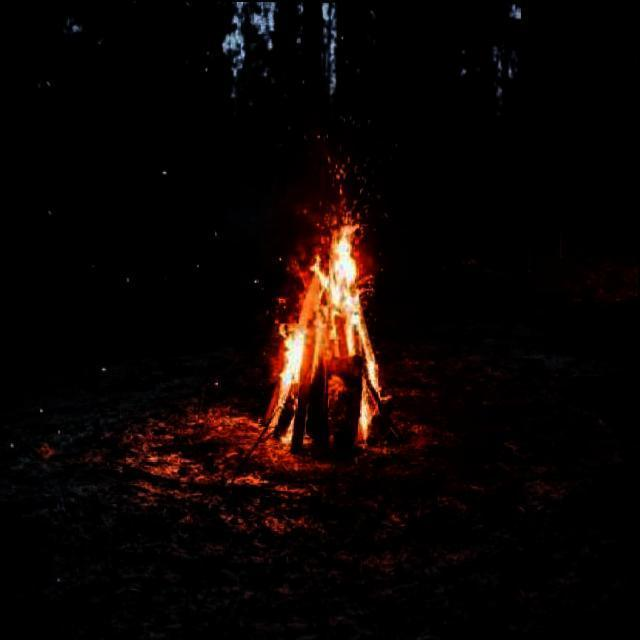Fire: (259, 122, 413, 460)
Smoke: (20, 52, 430, 266)
